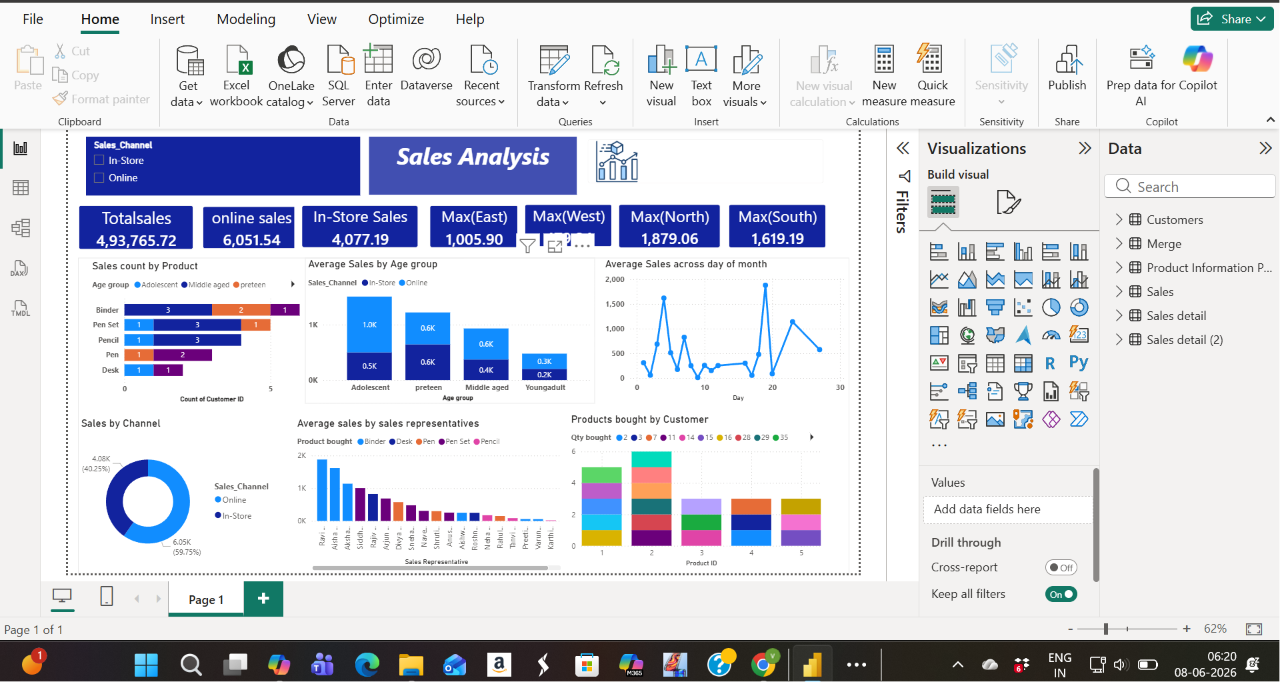

What the dashboard file says about the page in this screenshot:
{"tool":"powerbi","page":{"name":"Page 1","canvas":[1280,720],"ordinal":0},"visuals":[{"type":"group","id":"g1","title":"Group 1","box":[487.3,0,752.9,106.9],"z":0,"group":"g4"},{"type":"barChart","title":"Sales count by Product","fields":{"Category":["Product Information Power BI.Product bought"],"Series":["Sales.Age group"],"Y":["CountNonNull(Sales.Customer ID)"]},"box":[33.7,212.3,349.8,236.4],"z":0,"group":"g3"},{"type":"group","id":"g2","title":"Group 2","box":[0,105.2,1245.2,108.5],"z":1000},{"type":"columnChart","title":"Average Sales by Age group","fields":{"Y":["Avg(Merge.Sales.Sales)"],"Category":["Sales.Age group"],"Series":["Sales detail.Sales_Channel"]},"box":[383.2,208.9,469.6,237],"z":1000,"group":"g3"},{"type":"group","id":"g3","title":"Group 3","box":[16.2,208.9,1248.4,511.5],"z":2000},{"type":"donutChart","title":"Sales by Channel","fields":{"Category":["Sales detail.Sales_Channel"],"Y":["Sum(Merge.Sales.Sales)"]},"box":[16.2,466.8,331.9,253.5],"z":2000,"group":"g3"},{"type":"slicer","fields":{"Values":["Sales detail.Sales_Channel"]},"box":[29.1,13,443.7,95.5],"z":2001,"group":"g4"},{"type":"group","id":"g4","title":"Group 4","box":[29.1,0,1211.2,108.5],"z":2002},{"type":"columnChart","title":"Average sales by sales representatives","fields":{"Category":["Merge.Sales Representative"],"Y":["Avg(Merge.Sales.Sales)"],"Series":["Product Information Power BI.Product bought"]},"box":[366,466.8,437.2,253.5],"z":3000,"group":"g3"},{"type":"lineChart","title":"Average Sales across day of month","fields":{"Y":["Avg(Merge.Sales.Sales)"],"Category":["Sales detail.Date of sale.Variation.Date Hierarchy.Year","Sales detail.Date of sale.Variation.Date Hierarchy.Quarter","Sales detail.Date of sale.Variation.Date Hierarchy.Month","Sales detail.Date of sale.Variation.Date Hierarchy.Day"]},"box":[864.7,208.9,399.9,237],"z":4000,"group":"g3"},{"type":"columnChart","title":"Products bought by Customer","fields":{"Category":["Product Information Power BI.Product ID"],"Series":["Product Information Power BI.Qty bought"],"Y":["CountNonNull(Sales.Customer ID)"]},"box":[809,459.2,414.5,254.2],"z":5000,"group":"g3"},{"type":"textbox","box":[487.3,13,336.8,93.9],"z":6000,"group":"g1"},{"type":"cardVisual","fields":{"Data":["Product Information Power BI.Totalsales"]},"box":[0,106.8,220.2,106.9],"z":7000,"group":"g2"},{"type":"cardVisual","fields":{"Data":["Merge.online sales"]},"box":[200.8,108.4,192.7,103.6],"z":8000,"group":"g2"},{"type":"cardVisual","fields":{"Data":["Merge.In-Store Sales"]},"box":[361.1,106.8,223.5,103.6],"z":9000,"group":"g2"},{"type":"cardVisual","fields":{"Data":["Sales.Max(East)"]},"box":[568.3,106.8,178.1,103.6],"z":10000,"group":"g2"},{"type":"cardVisual","fields":{"Data":["Sales.Max(West)"]},"box":[722.2,105.2,176.5,103.6],"z":11000,"group":"g2"},{"type":"cardVisual","fields":{"Data":["Sales.Max(North)"]},"box":[874.4,105.2,199.2,105.2],"z":12000,"group":"g2"},{"type":"cardVisual","fields":{"Data":["Sales.Max(South)"]},"box":[1052.5,105.2,192.7,105.2],"z":13000,"group":"g2"},{"type":"cardVisual","fields":{"Data":["Sales.Max(West)"]},"box":[824.1,0,416.1,105.2],"z":13001,"group":"g1"}]}

Visuals, with their boxes on the page's 1280x720 design canvas (x1, y1, x2, y2). These are canvas units, not pixel positions in the 1280x682 screenshot, which may show the page scaled, cropped or inside an application window:
"Group 1" group: box=[487, 0, 1240, 107]
"Sales count by Product" barChart: box=[34, 212, 384, 449]
"Group 2" group: box=[0, 105, 1245, 214]
"Average Sales by Age group" columnChart: box=[383, 209, 853, 446]
"Group 3" group: box=[16, 209, 1265, 720]
"Sales by Channel" donutChart: box=[16, 467, 348, 720]
slicer - Sales detail.Sales_Channel: box=[29, 13, 473, 108]
"Group 4" group: box=[29, 0, 1240, 108]
"Average sales by sales representatives" columnChart: box=[366, 467, 803, 720]
"Average Sales across day of month" lineChart: box=[865, 209, 1265, 446]
"Products bought by Customer" columnChart: box=[809, 459, 1224, 713]
textbox: box=[487, 13, 824, 107]
cardVisual - Product Information Power BI.Totalsales: box=[0, 107, 220, 214]
cardVisual - Merge.online sales: box=[201, 108, 394, 212]
cardVisual - Merge.In-Store Sales: box=[361, 107, 585, 210]
cardVisual - Sales.Max(East): box=[568, 107, 746, 210]
cardVisual - Sales.Max(West): box=[722, 105, 899, 209]
cardVisual - Sales.Max(North): box=[874, 105, 1074, 210]
cardVisual - Sales.Max(South): box=[1052, 105, 1245, 210]
cardVisual - Sales.Max(West): box=[824, 0, 1240, 105]
